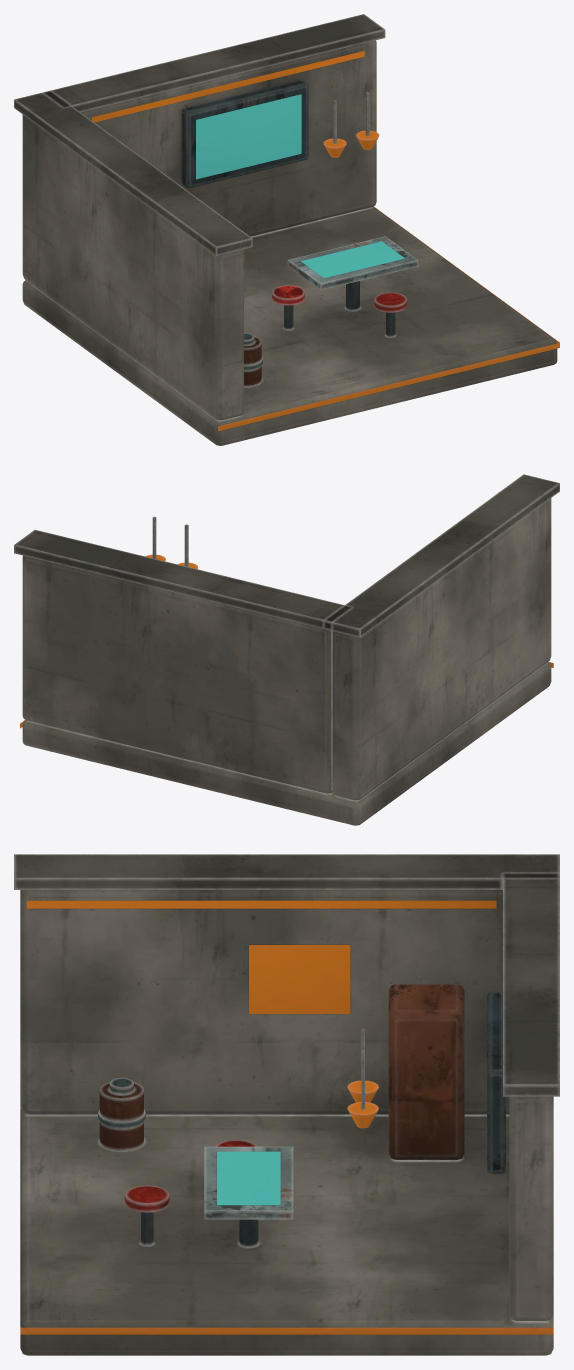
File: recreation_corner.glb
3 views of the same model, one above another, from view 1: azimuth 30°, elevation 25°; view 2: azimuth 150°, elevation 25°; view 3: azimuth 270°, elevation 25° (orthographic). The views are drawn at different scales.
Visible parts, largest first — view 1: te_recreation_corner; view 2: te_recreation_corner; view 3: te_recreation_corner.
Boxes of the visible parts, <box> form: te_recreation_corner: <box>14,14,559,445</box>; te_recreation_corner: <box>14,474,559,825</box>; te_recreation_corner: <box>14,854,559,1355</box>.
Size of the model in its own units: 0.86 by 0.48 by 0.86.
Materials: 1 (1 with a texture image).
